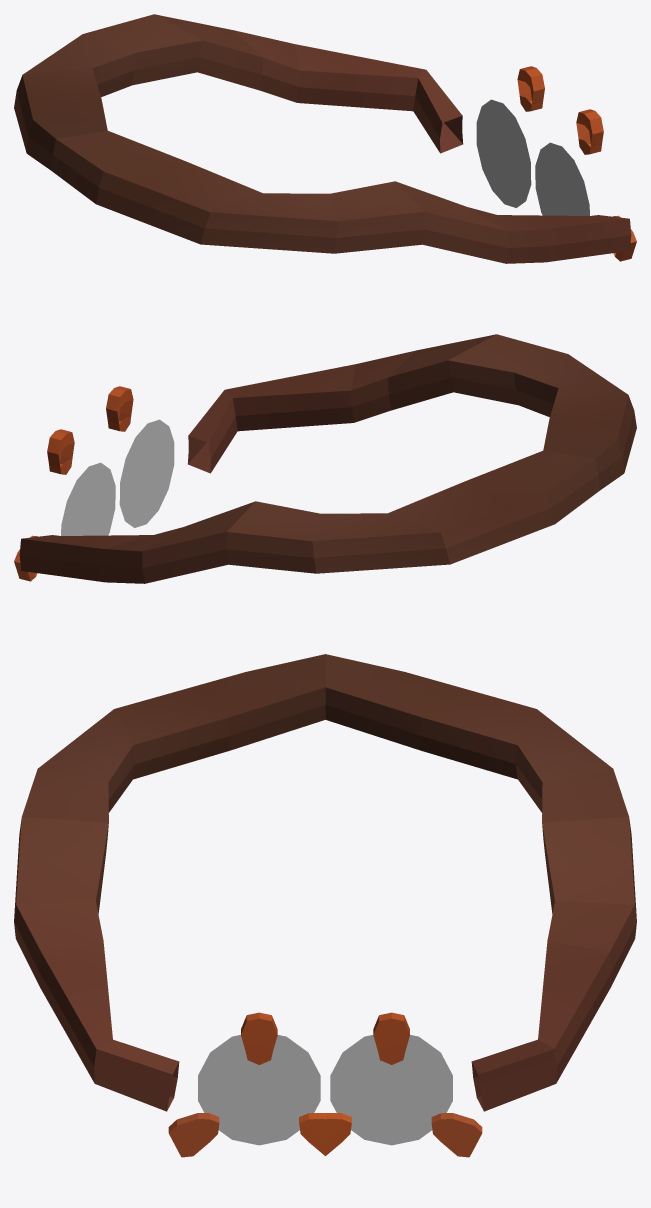
The model's file is GOGGLES.fbx.
The picture shows the model from 3 angles, top to bottom: view 1: azimuth 30°, elevation 25°; view 2: azimuth 150°, elevation 25°; view 3: azimuth 270°, elevation 25°; orthographic projection. The views are drawn at different scales.
Parts seen in each view (by area): view 1: GOGGLES; view 2: GOGGLES; view 3: GOGGLES.
Boxes of the visible parts, <box> form: GOGGLES: <box>14,14,636,263</box>; GOGGLES: <box>14,334,636,583</box>; GOGGLES: <box>14,654,636,1157</box>.
Bounding box in the file's own units: 27.19 × 12.42 × 25.24.
